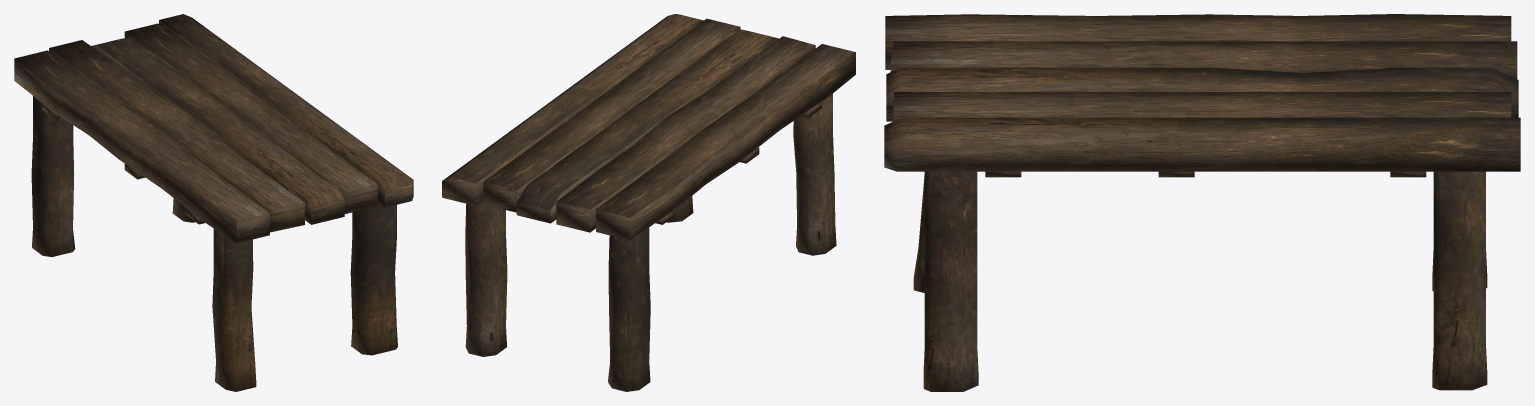
File: table2.obj
The picture shows the model from 3 angles, left to right: view 1: azimuth 30°, elevation 25°; view 2: azimuth 150°, elevation 25°; view 3: azimuth 270°, elevation 25°; orthographic projection. The views are drawn at different scales.
Parts seen in each view (by area): view 1: table2; view 2: table2; view 3: table2.
Boxes of the visible parts, x1,y1,x2,y2 form: table2: [14, 14, 413, 391]; table2: [442, 14, 855, 391]; table2: [884, 14, 1520, 391].
Bounding box in the file's own units: 0.7214 × 0.6916 × 1.54.
1 material, 1 textured.
